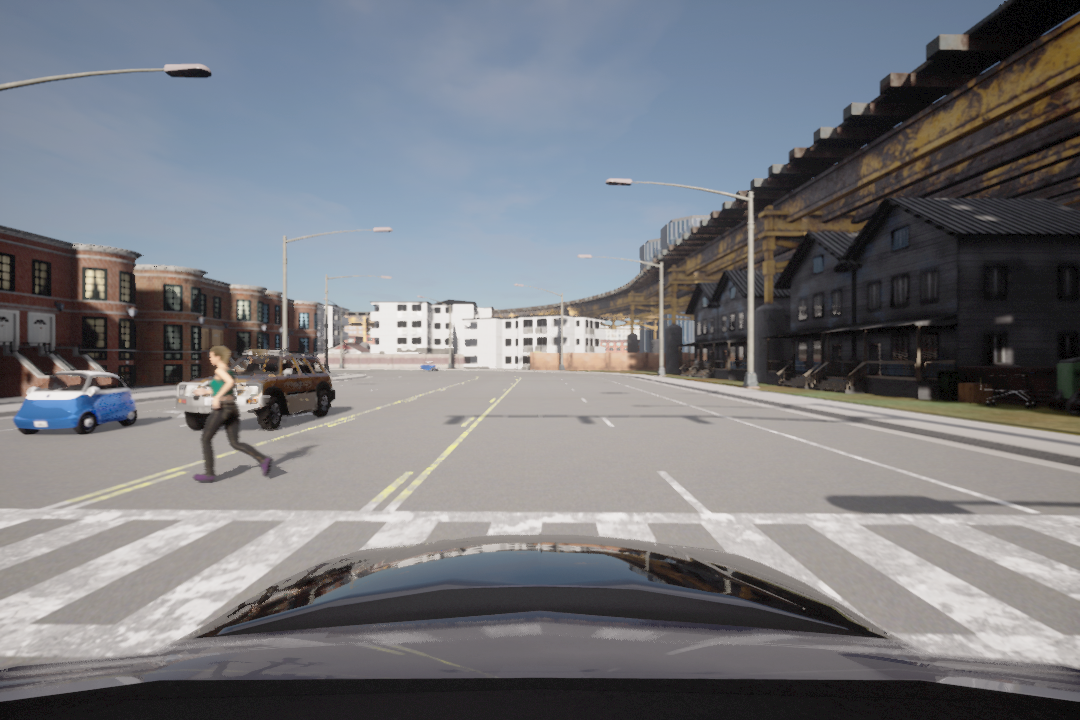walkside: (2, 507, 1077, 674)
